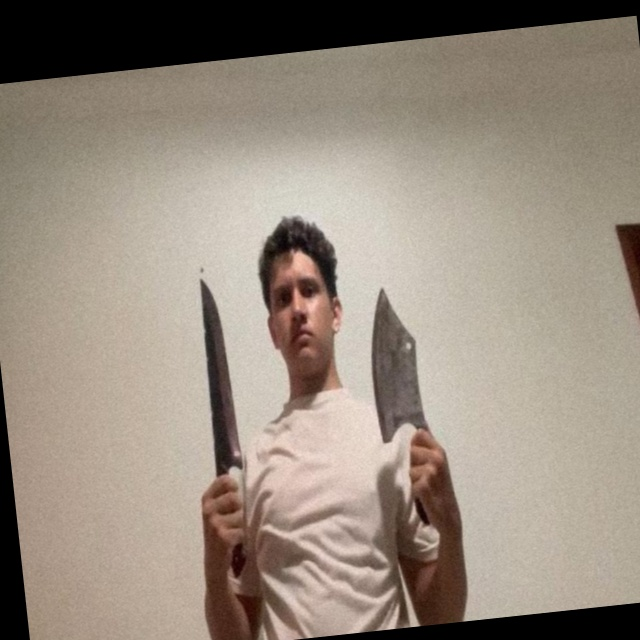Sharp-Object: (363, 285, 426, 444), (195, 276, 245, 470)
